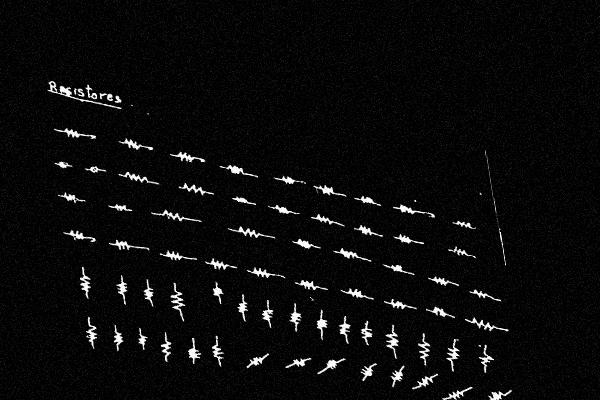resistor: (381, 326, 404, 356), (468, 314, 500, 335), (166, 287, 188, 316), (332, 245, 365, 263), (171, 148, 202, 167), (413, 336, 434, 364), (442, 341, 463, 369), (233, 224, 267, 241), (178, 180, 210, 198), (284, 307, 307, 332), (475, 348, 498, 373), (158, 206, 189, 224), (75, 269, 94, 298), (120, 169, 154, 185), (120, 135, 147, 154), (313, 181, 340, 200), (221, 161, 249, 178), (82, 321, 100, 347), (248, 264, 275, 281), (113, 278, 132, 302), (270, 202, 296, 219), (207, 256, 233, 273), (158, 335, 175, 361), (257, 305, 279, 325), (311, 211, 338, 227), (58, 189, 85, 205), (343, 285, 368, 302), (285, 354, 310, 371), (184, 342, 204, 363), (59, 125, 85, 141), (140, 282, 158, 305), (312, 314, 330, 337), (336, 319, 354, 342), (162, 247, 186, 264), (66, 227, 90, 244), (413, 373, 437, 390), (429, 274, 456, 289), (296, 277, 323, 292), (294, 237, 319, 253), (394, 232, 419, 248), (111, 237, 136, 253), (356, 362, 376, 382), (109, 327, 126, 350), (209, 341, 226, 364), (383, 261, 409, 276), (470, 286, 494, 302), (386, 296, 410, 312), (235, 297, 253, 318), (358, 323, 376, 344), (396, 202, 418, 218), (109, 201, 132, 216), (323, 356, 343, 373), (388, 366, 405, 386), (486, 387, 512, 400), (275, 173, 299, 187), (428, 304, 449, 320), (444, 386, 468, 400), (354, 222, 376, 237), (247, 352, 266, 369), (452, 217, 475, 231), (134, 330, 150, 350), (232, 194, 254, 208), (450, 245, 471, 259), (210, 283, 226, 301), (357, 194, 379, 207), (86, 163, 105, 176), (54, 158, 72, 171)
